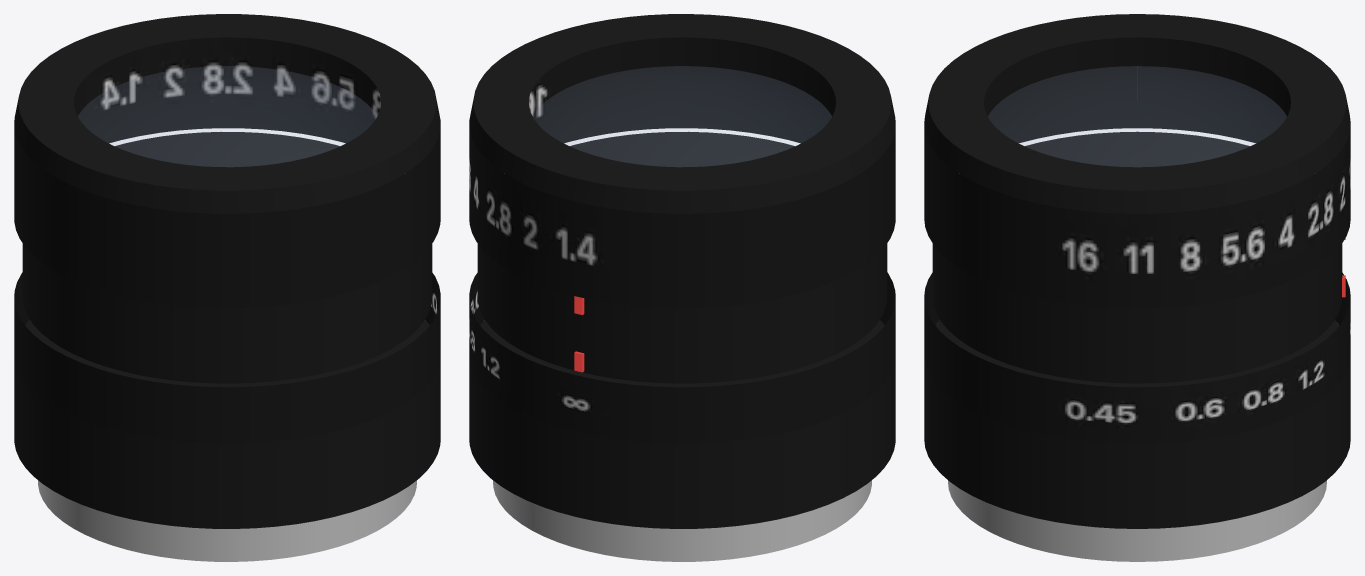
The model's file is lens-m-50-1.4.base.glb.
3 renders of one model, left to right at view 1: azimuth 30°, elevation 25°; view 2: azimuth 150°, elevation 25°; view 3: azimuth 270°, elevation 25°, orthographic.
Parts seen in each view (by area): view 1: lens, aperture-ring, focus-ring; view 2: lens, aperture-ring, focus-ring; view 3: lens, aperture-ring, focus-ring.
Part boxes in pixels (x1,y1,x2,y2): lens: (14, 14, 440, 561); aperture-ring: (14, 37, 440, 308); focus-ring: (14, 272, 440, 528); lens: (469, 14, 895, 561); aperture-ring: (469, 37, 895, 308); focus-ring: (469, 272, 895, 528); lens: (924, 14, 1350, 561); aperture-ring: (924, 37, 1350, 308); focus-ring: (924, 272, 1350, 528).
Bounding box in the file's own units: 0.054 × 0.0532 × 0.054.
Materials: 6 (2 with a texture image).
